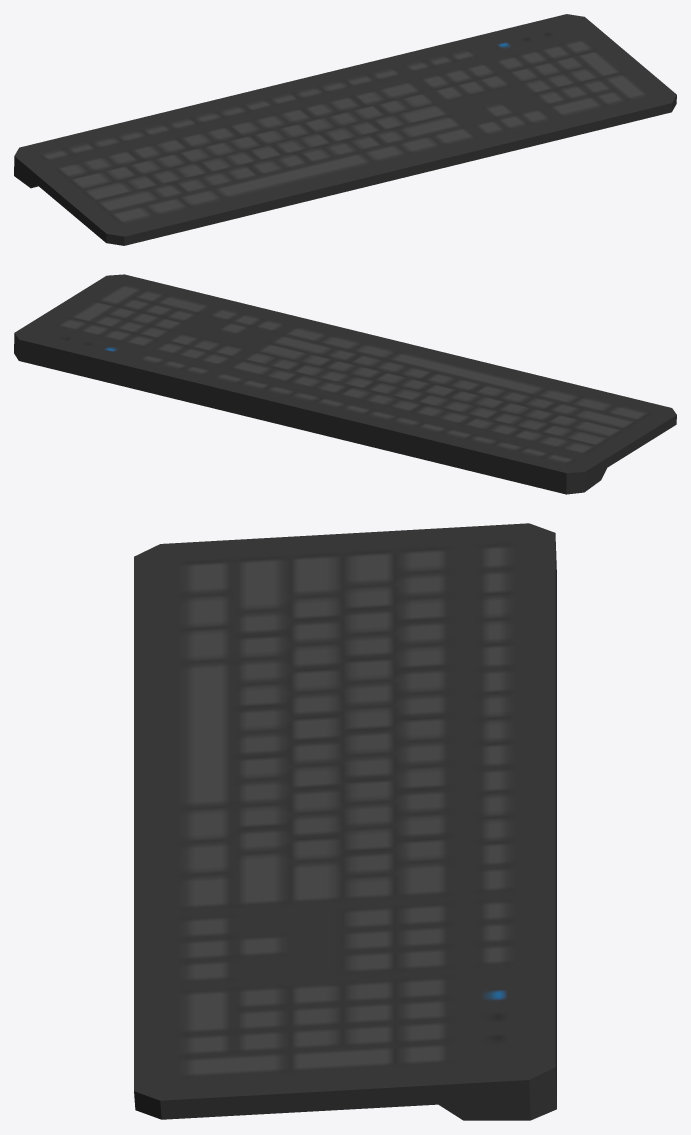
The model's file is SM_Props_Interior_Shop_Electronic_Keyboard_02.fbx.
The picture shows the model from 3 angles, top to bottom: view 1: azimuth 30°, elevation 25°; view 2: azimuth 150°, elevation 25°; view 3: azimuth 270°, elevation 25°; orthographic projection. The views are drawn at different scales.
Parts seen in each view (by area): view 1: SM_Props_Interior_Shop_Electronic_Keyboard_02; view 2: SM_Props_Interior_Shop_Electronic_Keyboard_02; view 3: SM_Props_Interior_Shop_Electronic_Keyboard_02.
Boxes of the visible parts, x1,y1,x2,y2 form: SM_Props_Interior_Shop_Electronic_Keyboard_02: [14, 14, 676, 245]; SM_Props_Interior_Shop_Electronic_Keyboard_02: [14, 274, 676, 494]; SM_Props_Interior_Shop_Electronic_Keyboard_02: [134, 523, 556, 1120].
Size of the model in its own units: 50 by 1.8 by 16.06.
